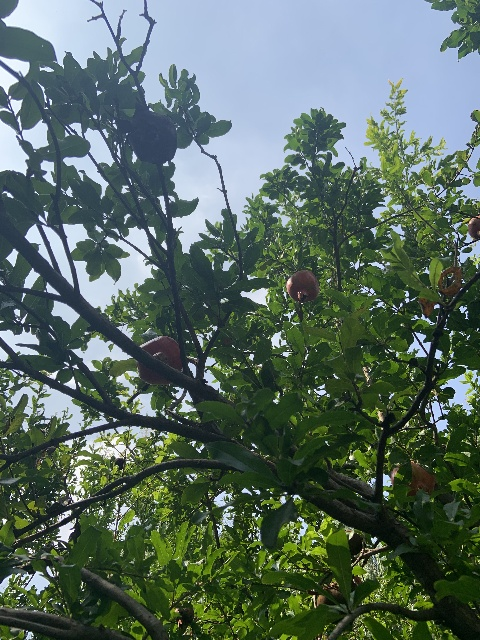ripe: (136, 335, 182, 385), (390, 460, 435, 496), (286, 270, 319, 302)
